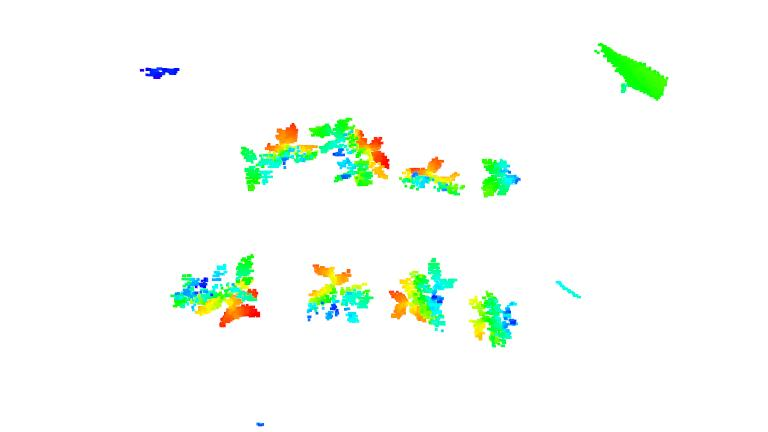chickpea: (168, 253, 264, 329), (306, 115, 392, 188), (238, 123, 318, 192), (388, 256, 459, 330), (303, 263, 372, 325), (466, 288, 521, 347), (398, 155, 466, 199), (479, 157, 521, 198)
